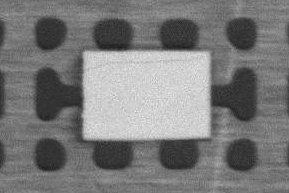DIE_CRACK: (85, 57, 194, 71)
